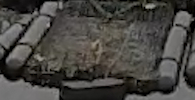bag: (5, 1, 189, 92)
